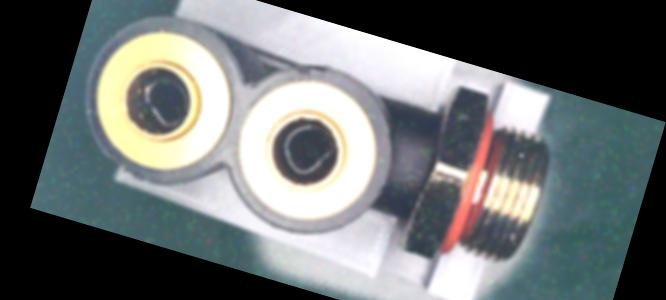bump: (90, 150, 151, 185), (284, 56, 333, 86)
joint line: (393, 156, 430, 176)
off-centered: (273, 113, 346, 185), (132, 67, 198, 135)
white mark: (397, 170, 422, 190)
